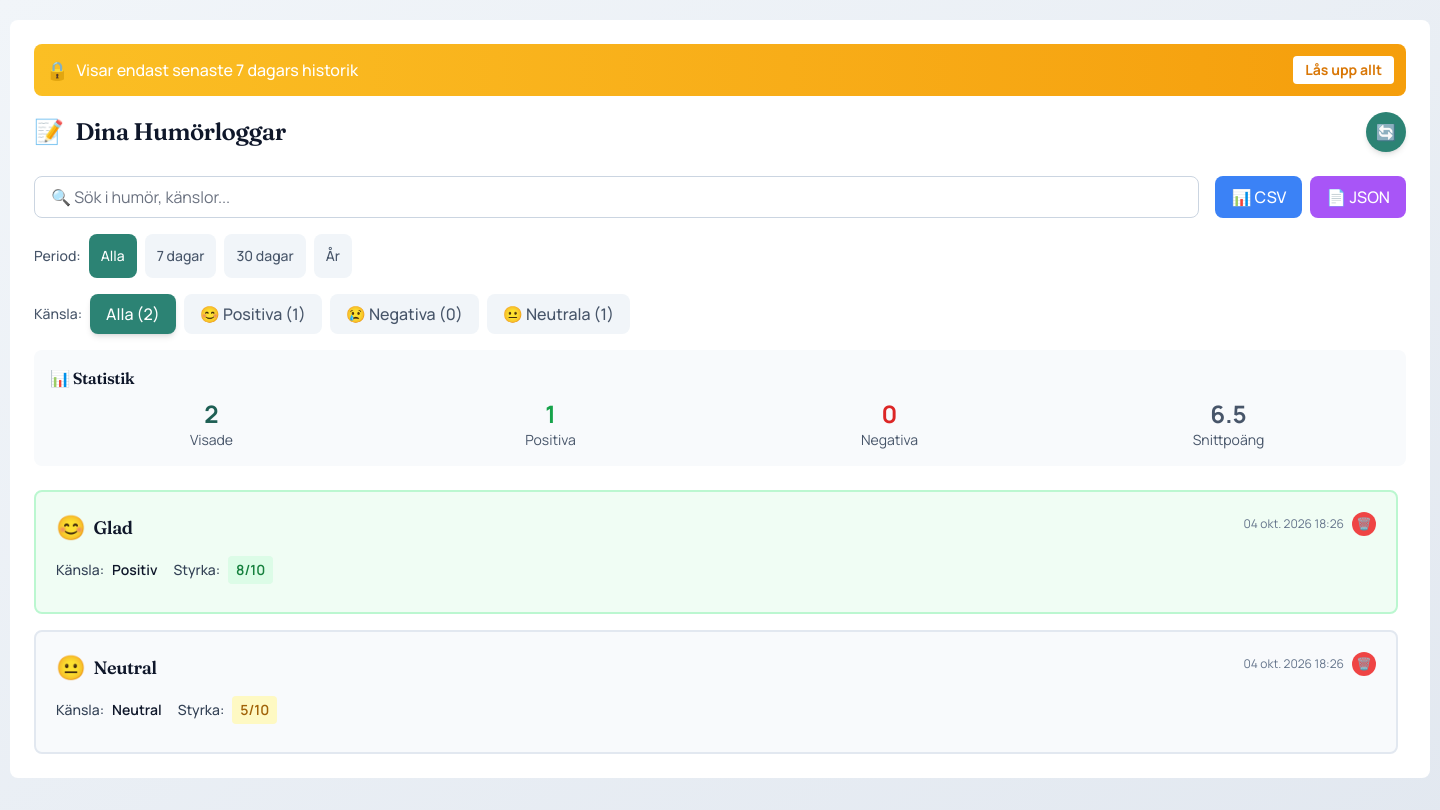
Test: MoodList - additional branch coverage › filters moods by neutral sentiment
Expected: the heading "😊 Glad" is shown, left=56, top=512, right=132, bottom=544
Click the button "😐 Neutrala (1)". click: [558, 314]
box: left=487, top=294, right=630, bottom=334
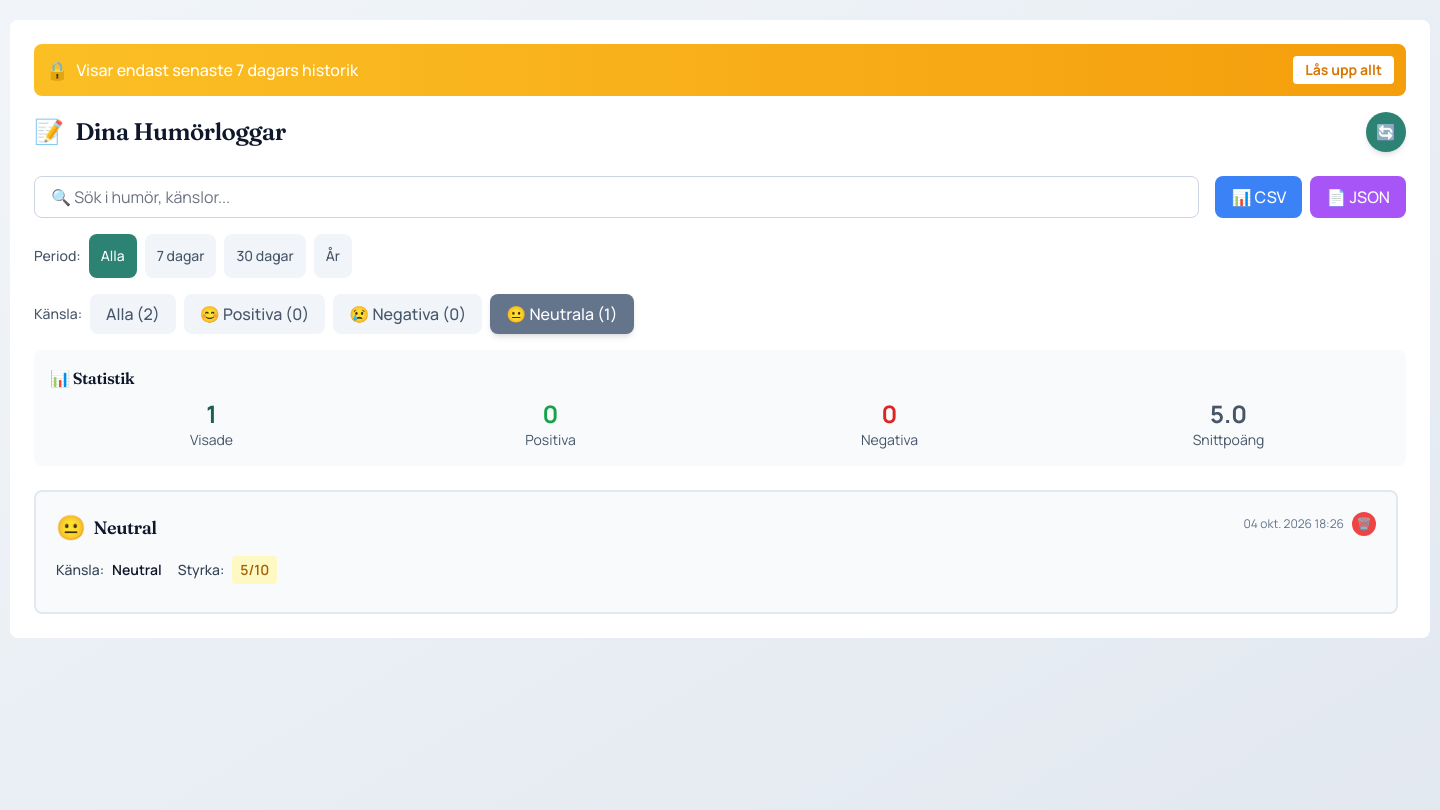
Expected: the heading "😐 Neutral" is shown, left=56, top=512, right=157, bottom=544
Result: the heading "Glad" is gone
